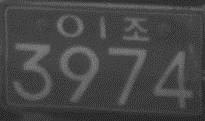0: (55, 12, 85, 39)
1: (91, 14, 113, 40)
3: (12, 40, 52, 102)
4: (152, 48, 194, 110)
7: (107, 45, 147, 105)
9: (59, 44, 100, 103)
조: (122, 16, 151, 42)
